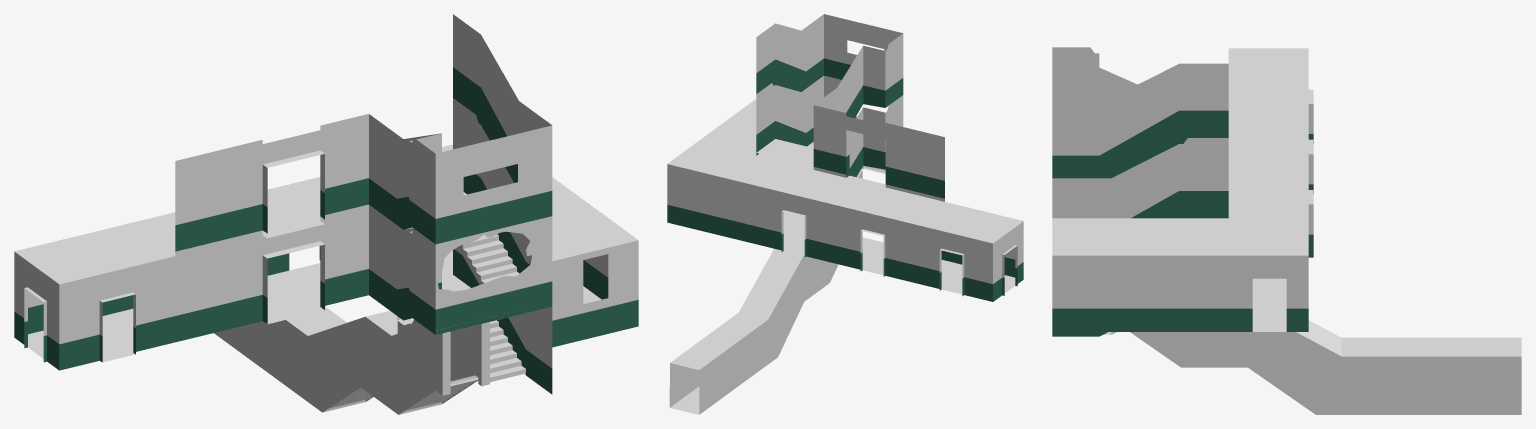
File: building_inside.fbx
3 views of the same model, side by side, from view 1: azimuth 30°, elevation 25°; view 2: azimuth 150°, elevation 25°; view 3: azimuth 270°, elevation 25° (orthographic). The views are drawn at different scales.
Parts seen in each view (by area): view 1: stairs_right.015, stairs_right.017, stairs_wallplane.003, stairs_right.019, floor1st.005, stairs_right.030, stairs_right.020, floor1st.001, Cube.013, stairs_right.021, stairs_low.002, stairs_low.003 (+1 smaller); view 2: stairs_wallplane.003, floor1st.005, stairs_right.019, stairs_right.015, stairs_right.030, stairs_right.020, stairs_right.017, floor1st.001, stairs_right.012; view 3: stairs_right.019, floor1st.005, stairs_wallplane.003, stairs_right.030, stairs_right.020, stairs_right.015, floor1st.001.
Part boxes in pixels (x1,y1,x2,y2): stairs_right.015: (175, 114, 493, 251); stairs_right.017: (175, 204, 493, 342); stairs_wallplane.003: (14, 240, 638, 370); stairs_right.019: (214, 306, 478, 414); floor1st.005: (15, 144, 637, 284); stairs_right.030: (453, 14, 552, 229); stairs_right.020: (453, 105, 552, 320); floor1st.001: (28, 250, 601, 362); Cube.013: (397, 321, 489, 395); stairs_right.021: (453, 247, 552, 394); stairs_low.002: (397, 234, 519, 324); stairs_low.003: (490, 320, 525, 382); stairs_wallplane.003: (667, 155, 1023, 301); floor1st.005: (668, 99, 1023, 243); stairs_right.019: (669, 248, 838, 414); stairs_right.015: (813, 23, 944, 198); stairs_right.030: (756, 14, 863, 98); stairs_right.020: (756, 75, 856, 155); stairs_right.017: (813, 95, 944, 260); floor1st.001: (783, 221, 1015, 294); stairs_right.012: (756, 139, 813, 169); stairs_right.019: (1130, 320, 1521, 414); floor1st.005: (1052, 48, 1308, 255); stairs_wallplane.003: (1052, 89, 1313, 331); stairs_right.030: (1052, 63, 1228, 178); stairs_right.020: (1052, 144, 1228, 218); stairs_right.015: (1052, 47, 1137, 97); floor1st.001: (1252, 280, 1286, 331).
Bounding box in the file's own units: 1683 × 1372 × 1588.
